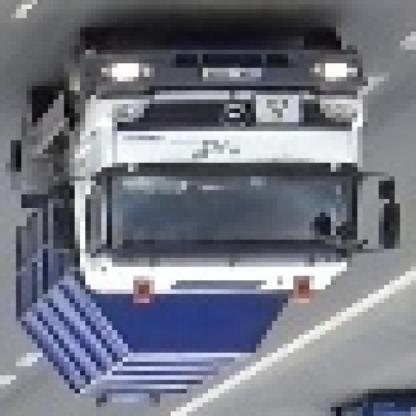truck: (6, 33, 396, 413)
